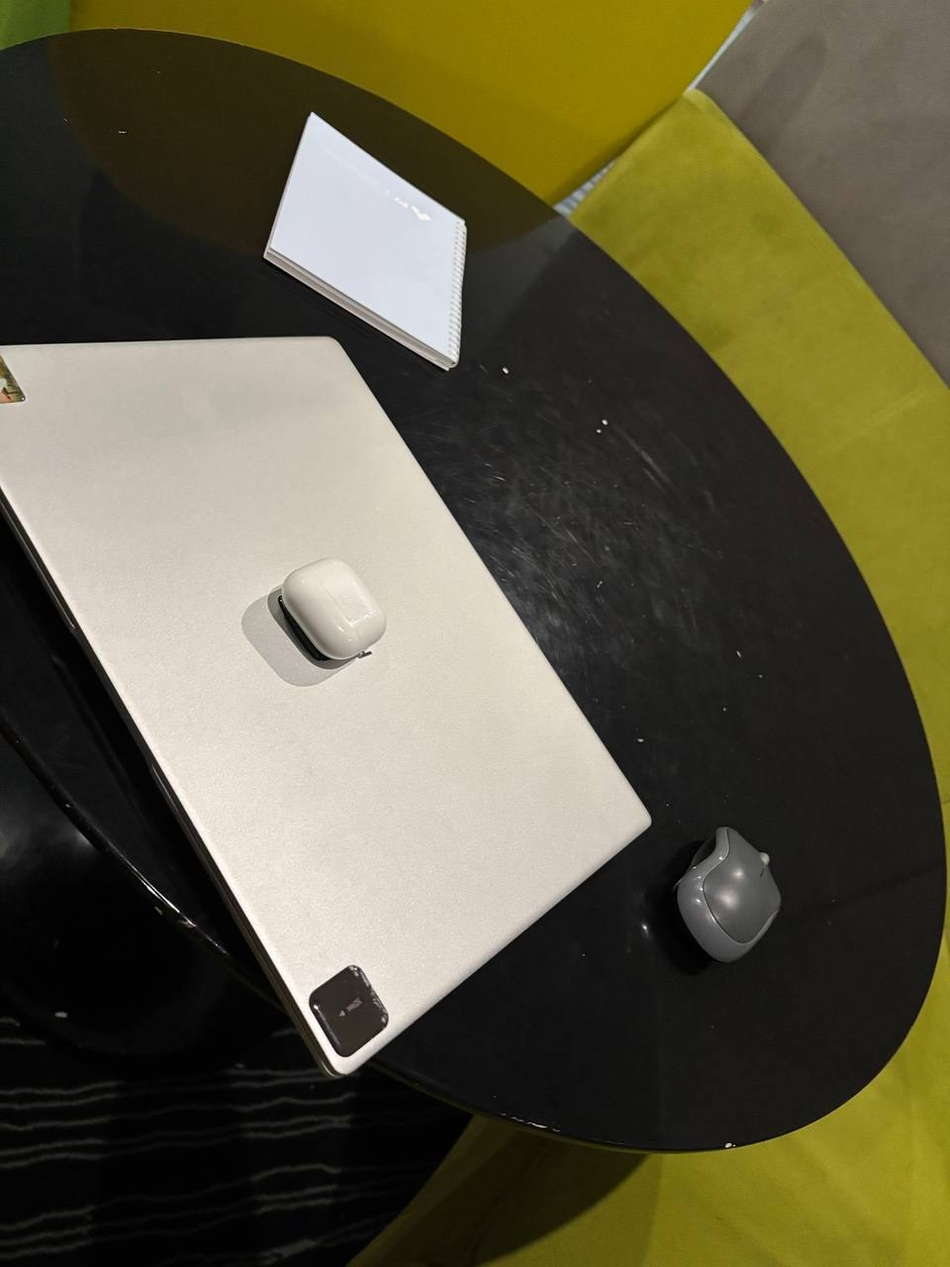laptop: (1, 334, 654, 1079)
